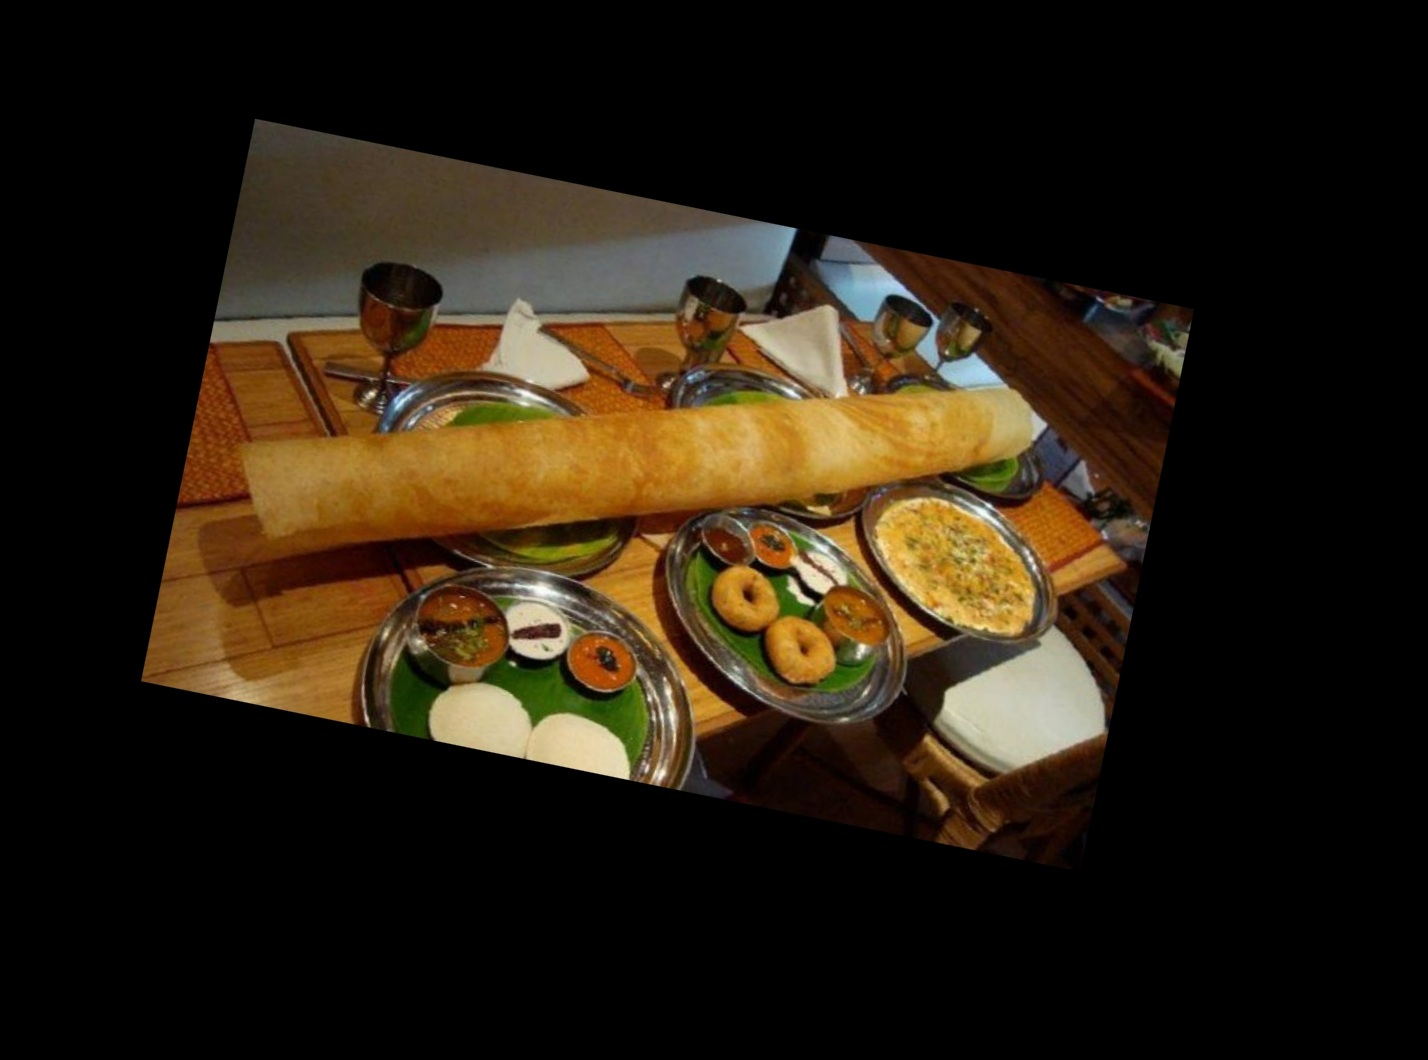dosa: (225, 383, 1055, 541)
